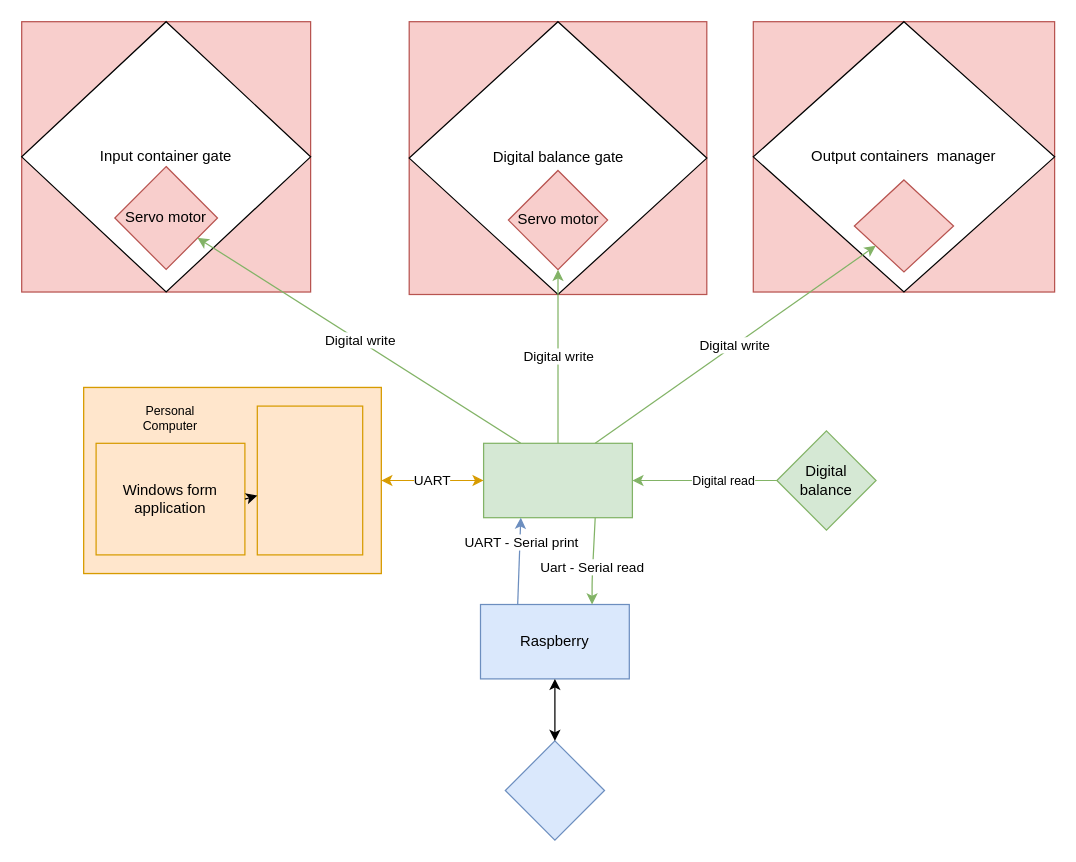
This 1076x862 diagram has some shape labels left out. Here are the shapes that lost their labels. From the top down, the centre of each, then its label:
the point at 903,225: Step motor
the point at 309,480: Serial comunication
the point at 557,480: STM
the point at 554,790: Camera
